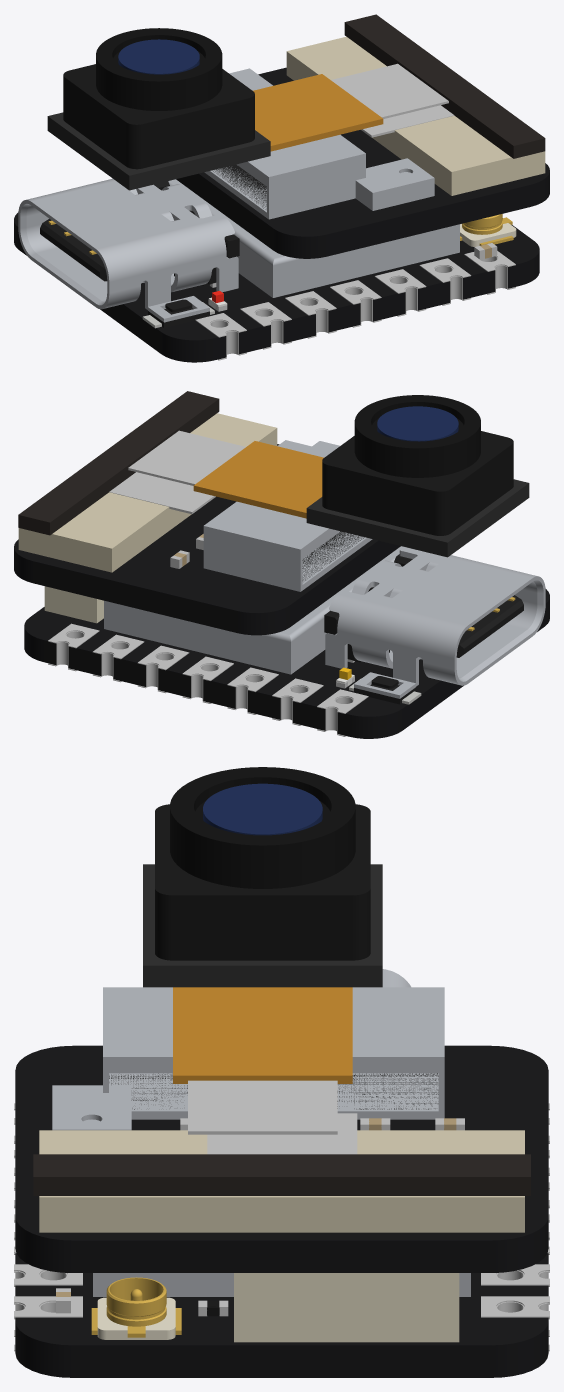
File: xiao-esp32s3-sense.glb
3 views of the same model, one above another, from view 1: azimuth 30°, elevation 25°; view 2: azimuth 150°, elevation 25°; view 3: azimuth 270°, elevation 25° (orthographic). The views are drawn at different scales.
Parts seen in each view (by area): view 1: conn_usb, pcb, sense_pcb, cam_holder, J_fpc_body, sd_slot, shield_can, J_fpc_lock, cam_barrel, cam_fpc_stiffener, cam_fpc, cam_base (+14 smaller); view 2: conn_usb, sense_pcb, pcb, cam_holder, sd_slot, J_fpc_body, shield_can, J_fpc_lock, cam_barrel, cam_fpc_stiffener, cam_fpc, cam_base (+12 smaller); view 3: sense_pcb, pcb, J_fpc_body, sd_slot, J_fpc_lock, cam_holder, cam_fpc_stiffener, J3_b2b, cam_barrel, cam_fpc, cam_base, cam_lens (+9 smaller).
Part boxes in pixels (x1,y1,x2,y2): conn_usb: (18, 178, 238, 309); pcb: (14, 212, 539, 362); sense_pcb: (176, 67, 549, 258); cam_holder: (63, 64, 254, 169); J_fpc_body: (286, 36, 545, 195); sd_slot: (204, 68, 365, 219); shield_can: (168, 179, 459, 297); J_fpc_lock: (344, 14, 545, 158); cam_barrel: (96, 28, 222, 110); cam_fpc_stiffener: (253, 74, 383, 151); cam_fpc: (331, 63, 454, 137); cam_base: (47, 112, 270, 190); conn_usb: (325, 546, 545, 686); sense_pcb: (14, 444, 400, 635); pcb: (24, 589, 549, 738); cam_holder: (322, 431, 513, 535); sd_slot: (203, 441, 372, 591); J_fpc_body: (18, 413, 277, 572); shield_can: (104, 546, 402, 674); J_fpc_lock: (18, 391, 219, 535); cam_barrel: (354, 395, 480, 477); cam_fpc_stiffener: (193, 441, 323, 518); cam_fpc: (109, 430, 245, 514); cam_base: (306, 479, 529, 557); sense_pcb: (15, 1045, 548, 1272); pcb: (15, 1253, 548, 1377); J_fpc_body: (39, 1130, 524, 1232); sd_slot: (103, 987, 444, 1119); J_fpc_lock: (33, 1154, 530, 1195); cam_holder: (155, 804, 370, 960); cam_fpc_stiffener: (173, 987, 352, 1083); J3_b2b: (234, 1273, 459, 1342); cam_barrel: (170, 767, 355, 888); cam_fpc: (188, 1080, 357, 1154); cam_base: (143, 864, 382, 987); cam_lens: (203, 783, 322, 835).
Bounding box in the file's own units: 0.0232 × 0.0129 × 0.0179.
